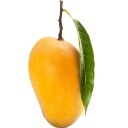mango: (26, 35, 92, 128)
